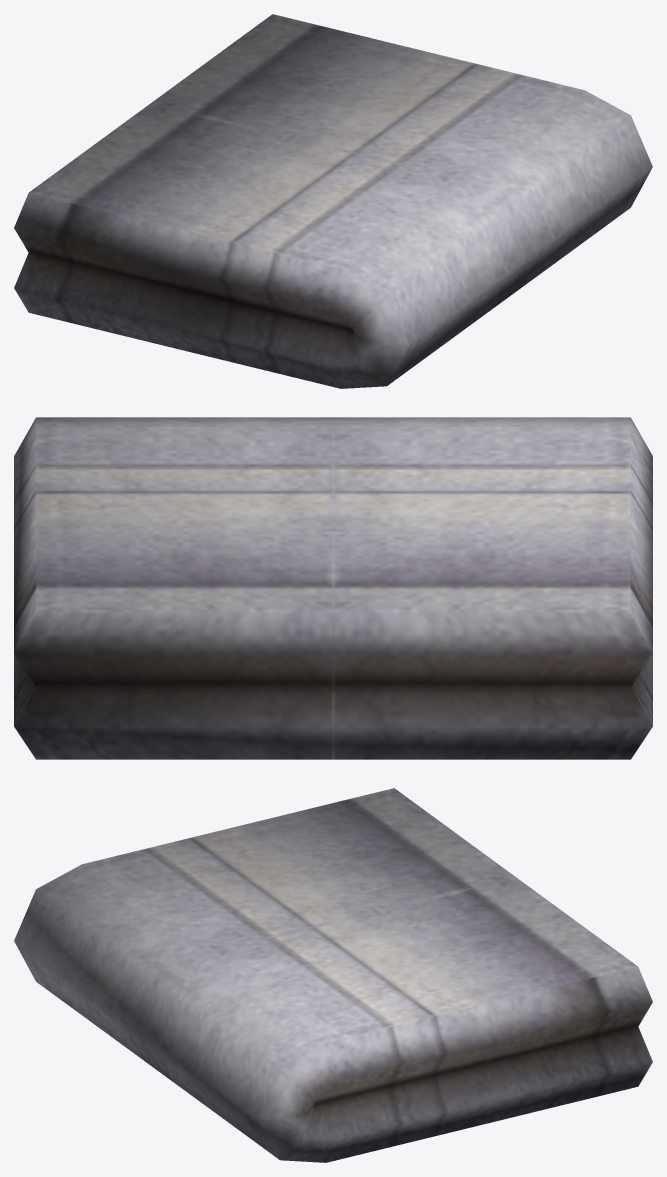
Rendered from TouKuiZheJia_01_tanzi_01.FBX.
3 views of the same model, one above another, from view 1: azimuth 30°, elevation 25°; view 2: azimuth 150°, elevation 25°; view 3: azimuth 270°, elevation 25° (orthographic). The views are drawn at different scales.
Visible parts, largest first — view 1: TouKuiZheJia_tanzi_01; view 2: TouKuiZheJia_tanzi_01; view 3: TouKuiZheJia_tanzi_01.
Part boxes in pixels (box(x1,y1,x2,y2)): TouKuiZheJia_tanzi_01: box(14, 14, 652, 388); TouKuiZheJia_tanzi_01: box(14, 417, 652, 759); TouKuiZheJia_tanzi_01: box(14, 788, 652, 1162).
Bounding box in the file's own units: 253 × 50.68 × 245.
